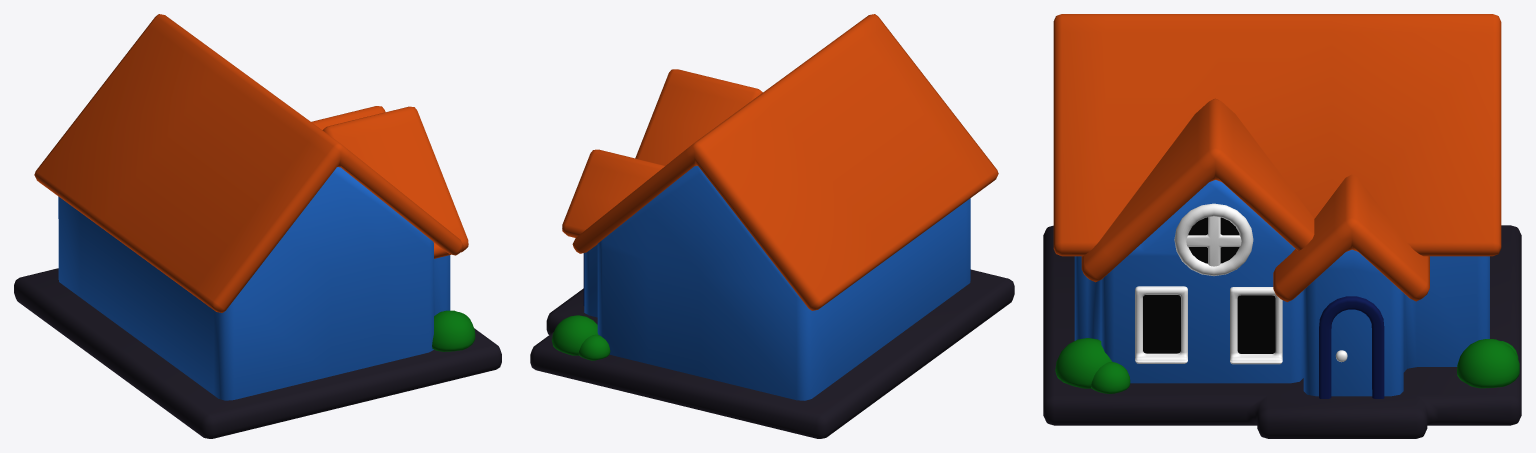
The model's file is A casa.obj.
The picture shows the model from 3 angles, left to right: view 1: azimuth 30°, elevation 25°; view 2: azimuth 150°, elevation 25°; view 3: azimuth 270°, elevation 25°; orthographic projection. The views are drawn at different scales.
Parts seen in each view (by area): view 1: Cube.002, Cube.001, Cube, Cube.004, Icosphere, Cube.003; view 2: Cube.002, Cube.001, Cube, Cube.004, Cube.003, Icosphere.003, Icosphere.002; view 3: Cube.002, Cube.001, Cube, Cube.004, Cube.003, Torus.006, Torus.010, Icosphere.003, Grid.002, Grid.001, Icosphere, Cube.007 (+4 smaller).
Part boxes in pixels (x1,y1,x2,y2): Cube.002: (34,14,463,312); Cube.001: (58,167,450,400); Cube: (14,268,501,438); Cube.004: (322,106,468,258); Icosphere: (432,310,475,351); Cube.003: (311,106,385,129); Cube.002: (572,14,998,310); Cube.001: (584,166,970,400); Cube: (530,269,1014,438); Cube.004: (635,69,762,165); Cube.003: (562,149,665,237); Icosphere.003: (552,315,598,355); Icosphere.002: (578,334,610,360); Cube.002: (1053,14,1501,256); Cube.001: (1074,180,1489,396); Cube: (1043,225,1521,438); Cube.004: (1081,98,1314,282); Cube.003: (1273,174,1429,302); Torus.006: (1319,296,1384,398); Torus.010: (1174,203,1253,275); Icosphere.003: (1457,339,1519,388); Grid.002: (1237,295,1275,353); Grid.001: (1143,295,1180,353); Icosphere: (1055,338,1111,388); Cube.007: (1135,286,1187,363).
Size of the model in its own units: 1.67 by 1.3 by 1.76.
